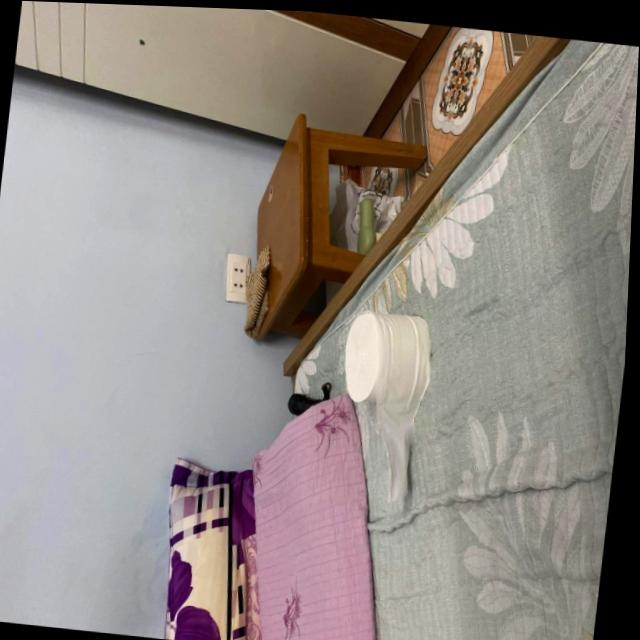outlet: (221, 251, 253, 304)
